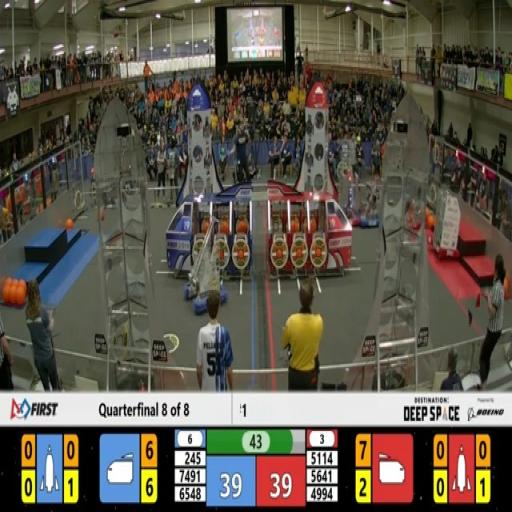robot: (184, 214, 230, 314), (431, 182, 463, 258), (337, 156, 361, 239), (359, 172, 382, 230)
